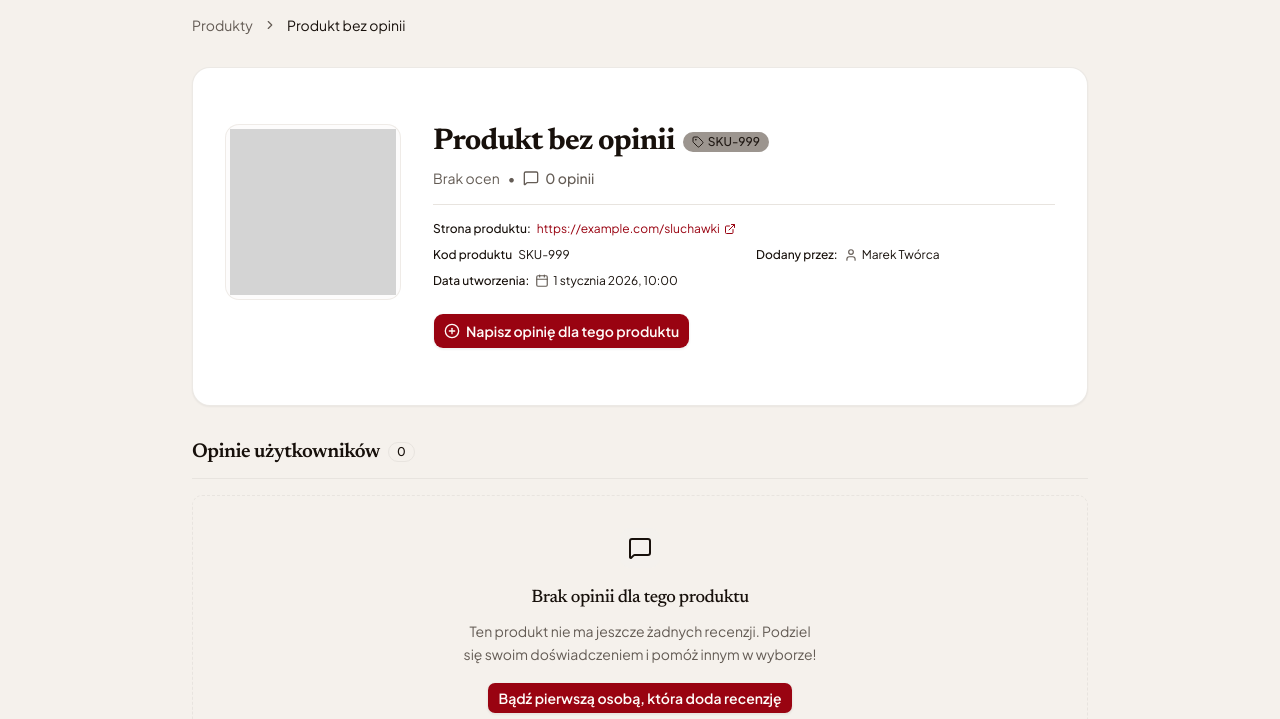
Test: app/produkty/[id]/_components/ProductDetails › opens review form on product without reviews when empty state button is clicked
The image size is (1280, 719).
Expected: the text "Brak opinii dla tego produktu" is shown, x1=531 y1=584 x2=749 y2=612
What coordinates should you click on to do the following:
click the button "Bądź pierwszą osobą, która doda recenzję"
I would click on:
 (640, 698)
Its box is x1=488 y1=682 x2=793 y2=714.
(page scrolled)
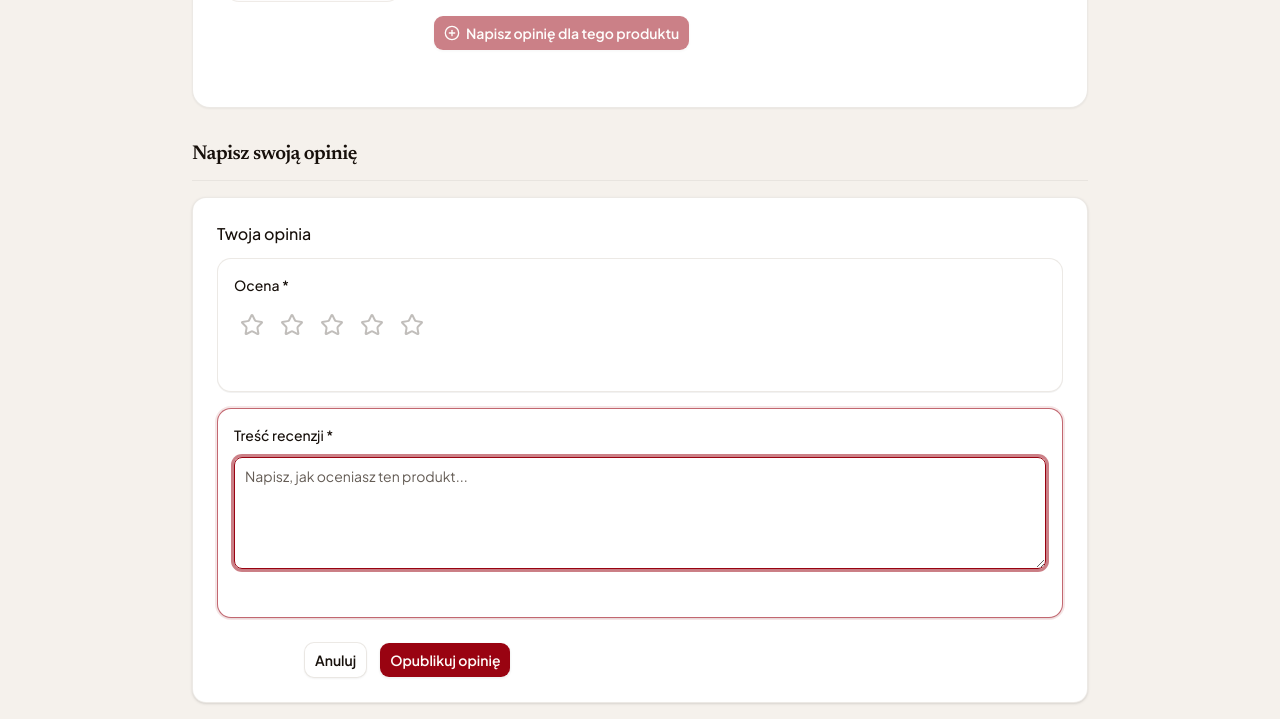
Now the heading "Napisz swoją opinię" is shown, box x1=192 y1=140 x2=357 y2=168
Now the text "Brak opinii dla tego produktu" is gone
What coordinates should you click on to do the following:
click the button "Anuluj"
I would click on:
 (336, 660)
Its box is x1=304 y1=642 x2=367 y2=678.
(page scrolled)
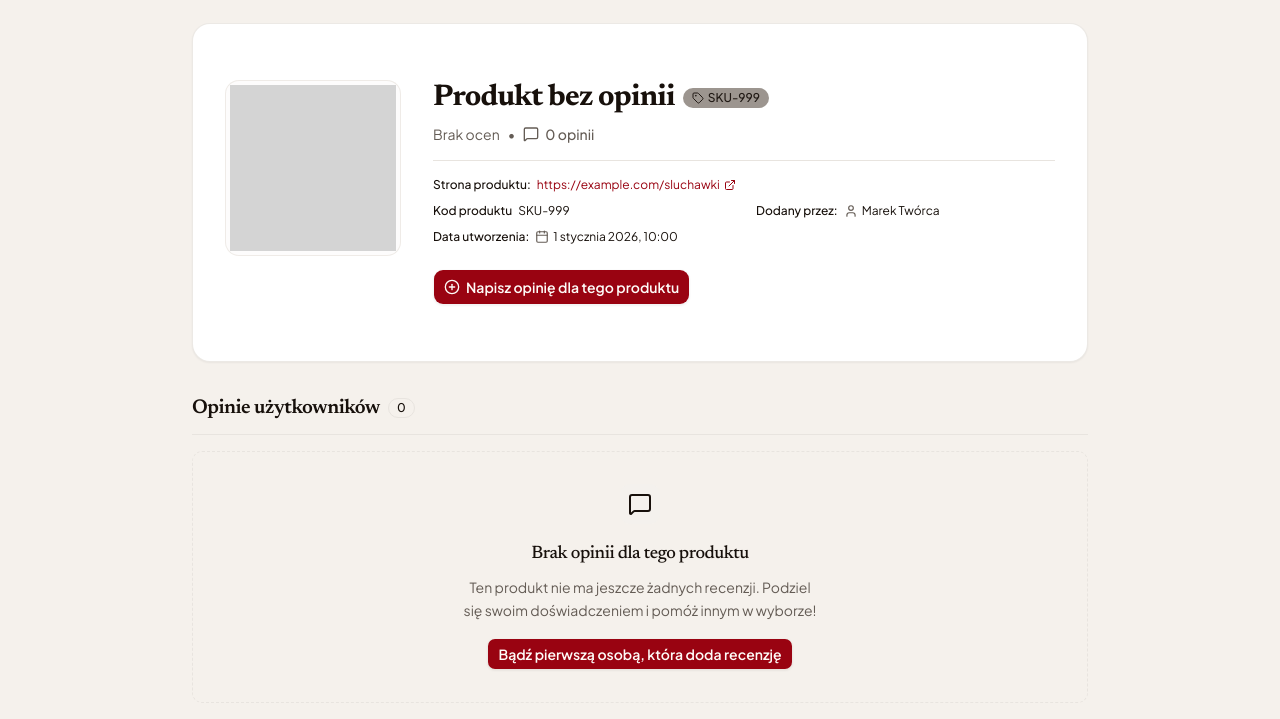
Now the text "Brak opinii dla tego produktu" is shown, box x1=531 y1=540 x2=749 y2=568
